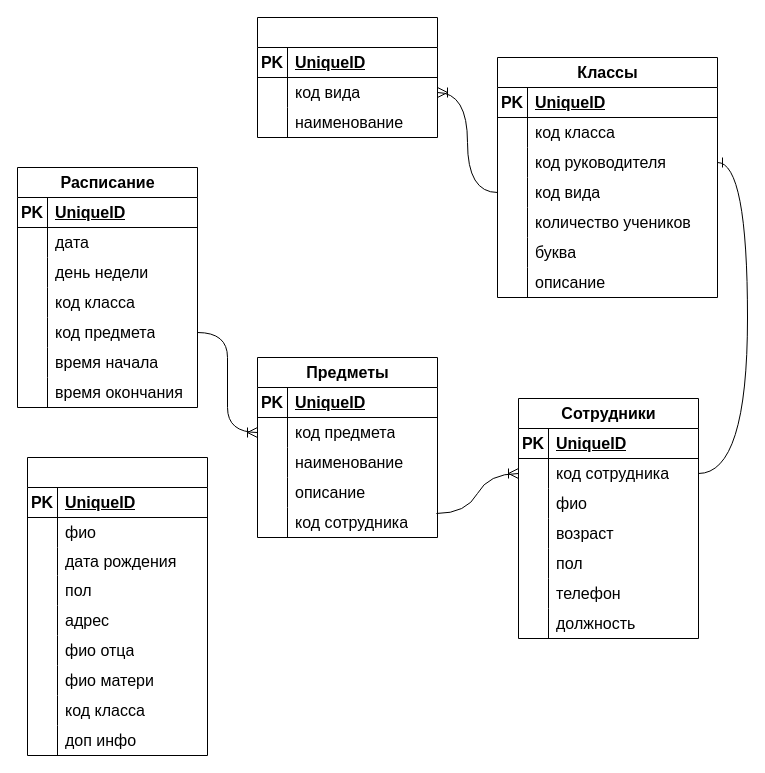
Image size: 765x773. Some labels were removed from this diagram. Each missing label, with the box of its shape:
Виды классов: (256, 16, 438, 138)
Ученики: (26, 456, 208, 756)
